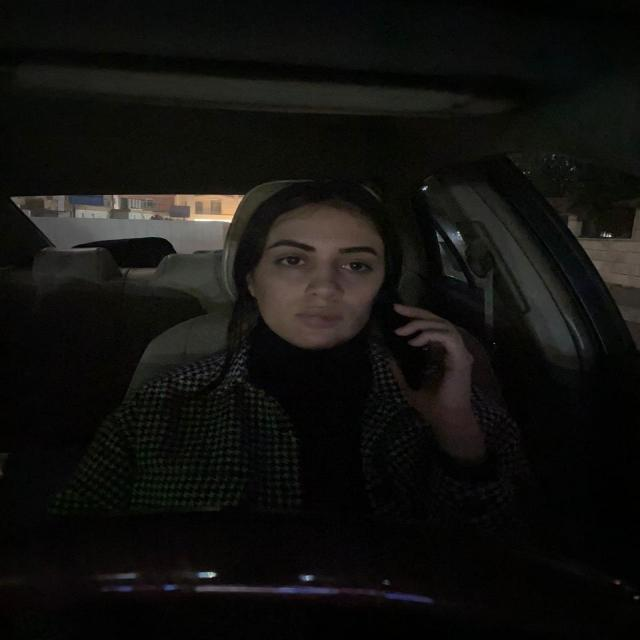mobile: (366, 290, 456, 400)
person: (240, 187, 396, 352)
